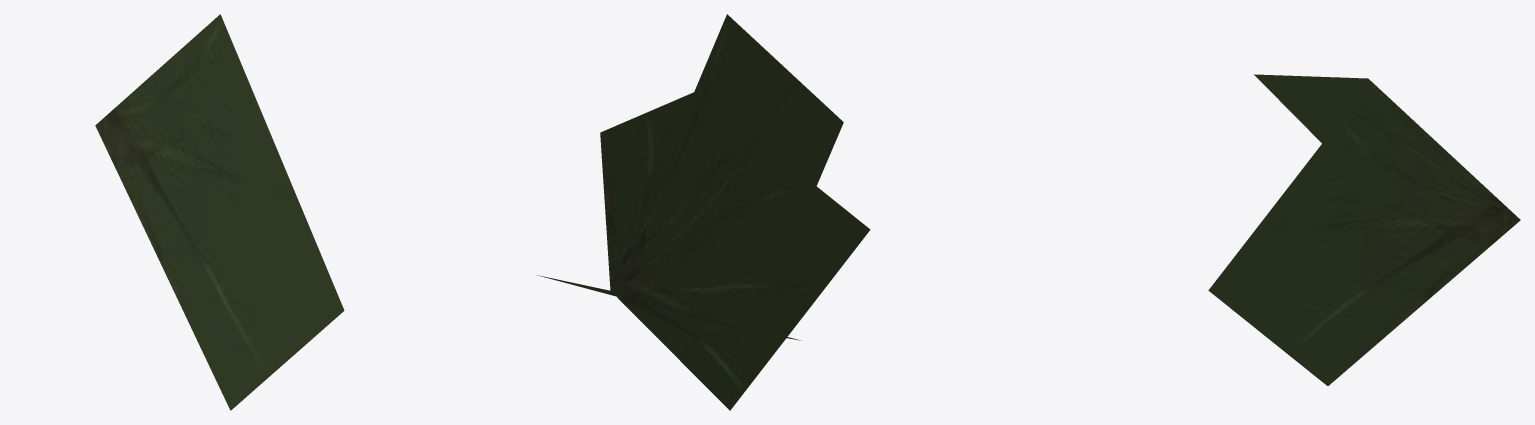
The model's file is brush_newgrasstuft_shortwide.glb.
3 renders of one model, left to right at view 1: azimuth 30°, elevation 25°; view 2: azimuth 150°, elevation 25°; view 3: azimuth 270°, elevation 25°, orthographic. The views are drawn at different scales.
Bounding box in the file's own units: 27.93 × 22.14 × 27.29.
Materials: 1 (1 with a texture image).
